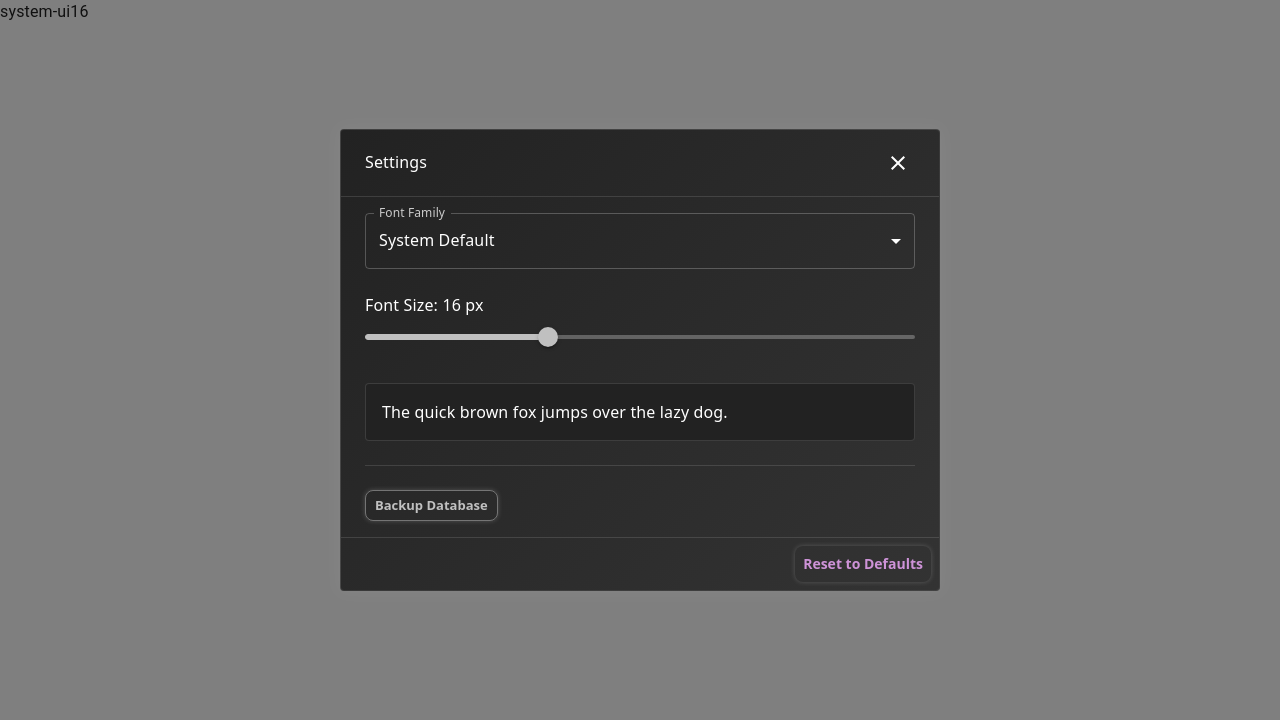
Scenario: SettingsDialog › settings updates › changing font size updates context
Expected: the text with test id "current-font-size" reads "16", [70,2,89,21]
// Change slider value using fireEvent.change on the underlying input
Step 1. Set the slider to "20" → (548, 337), box [538,327,558,347]
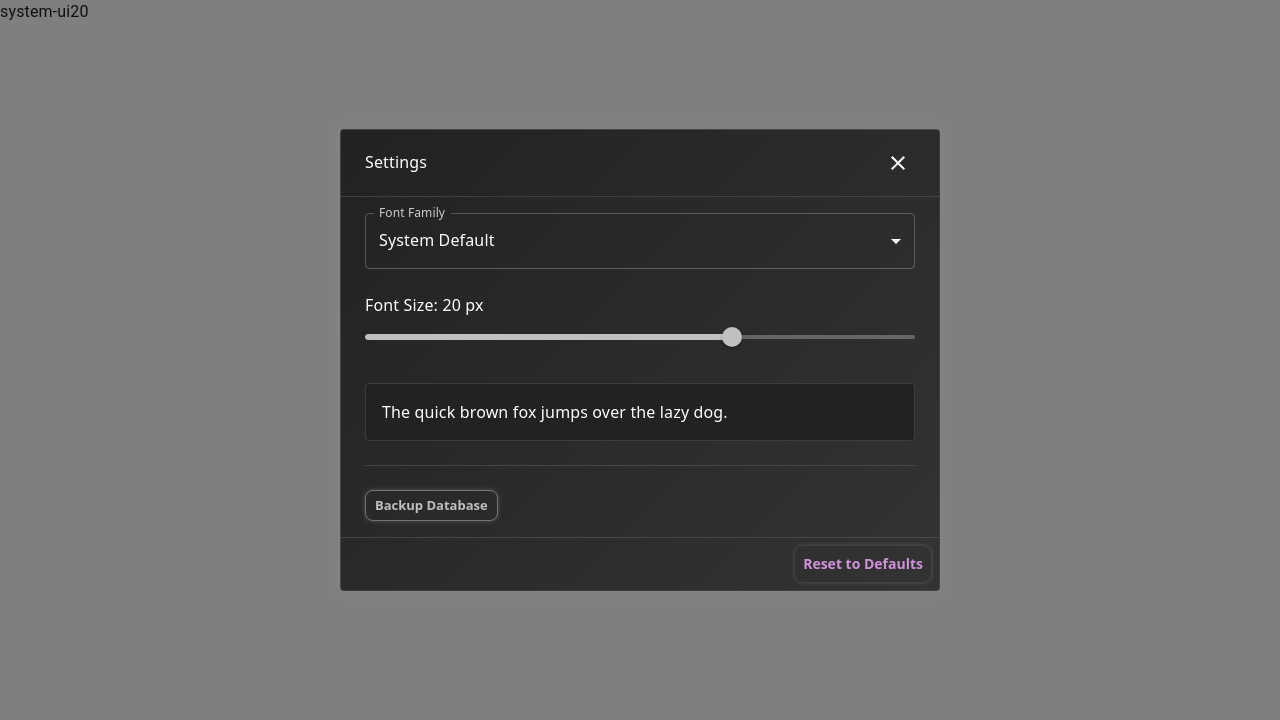
Expected: the text with test id "current-font-size" reads "20", [70,2,89,21]
